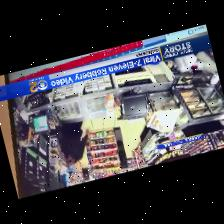person: (55, 121, 88, 166)
